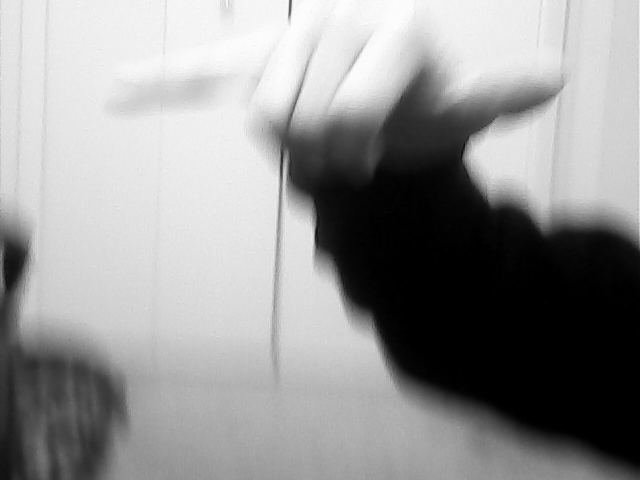aloha: (107, 9, 572, 183)
